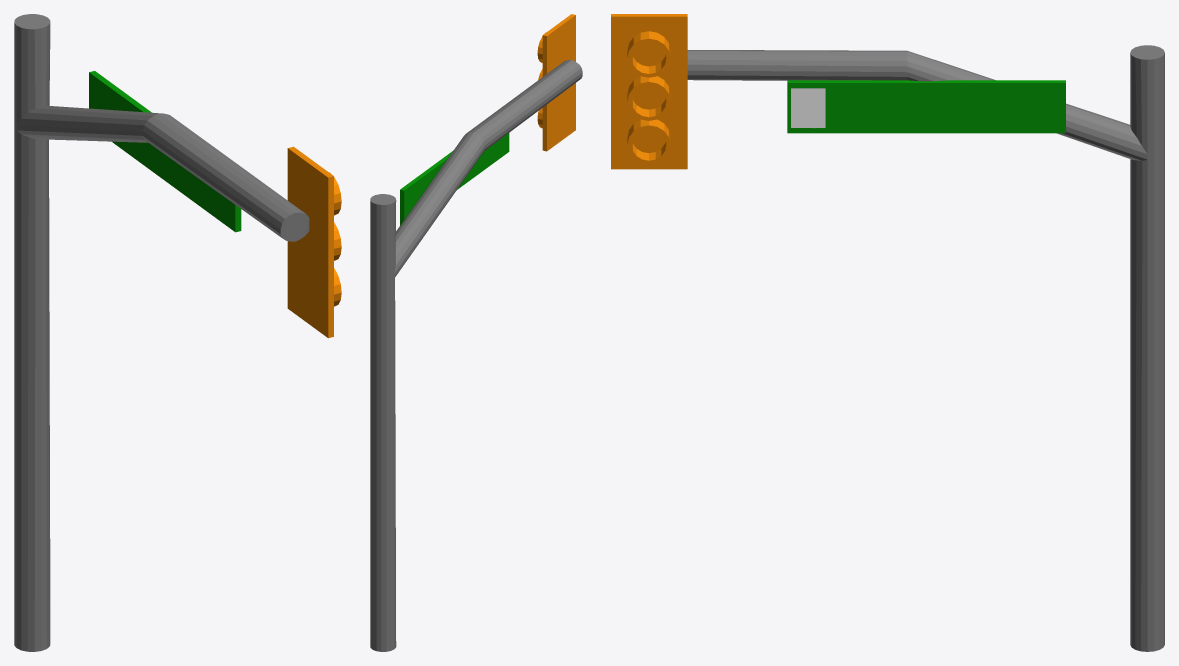
The model's file is traffic_light3.fbx.
3 renders of one model, left to right at view 1: azimuth 30°, elevation 25°; view 2: azimuth 150°, elevation 25°; view 3: azimuth 270°, elevation 25°, orthographic. The views are drawn at different scales.
Visible parts, largest first — view 1: Cylinder.008; view 2: Cylinder.008; view 3: Cylinder.008.
Part boxes in pixels (bbox=[...]): Cylinder.008: bbox=[14, 14, 341, 651]; Cylinder.008: bbox=[370, 14, 582, 651]; Cylinder.008: bbox=[611, 14, 1164, 651].
Size of the model in its own units: 63.24 by 784 by 618.
